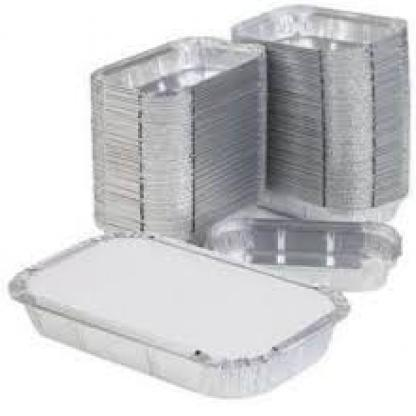METAL: (8, 227, 346, 394), (230, 3, 406, 222), (91, 38, 263, 242), (210, 218, 399, 291)
